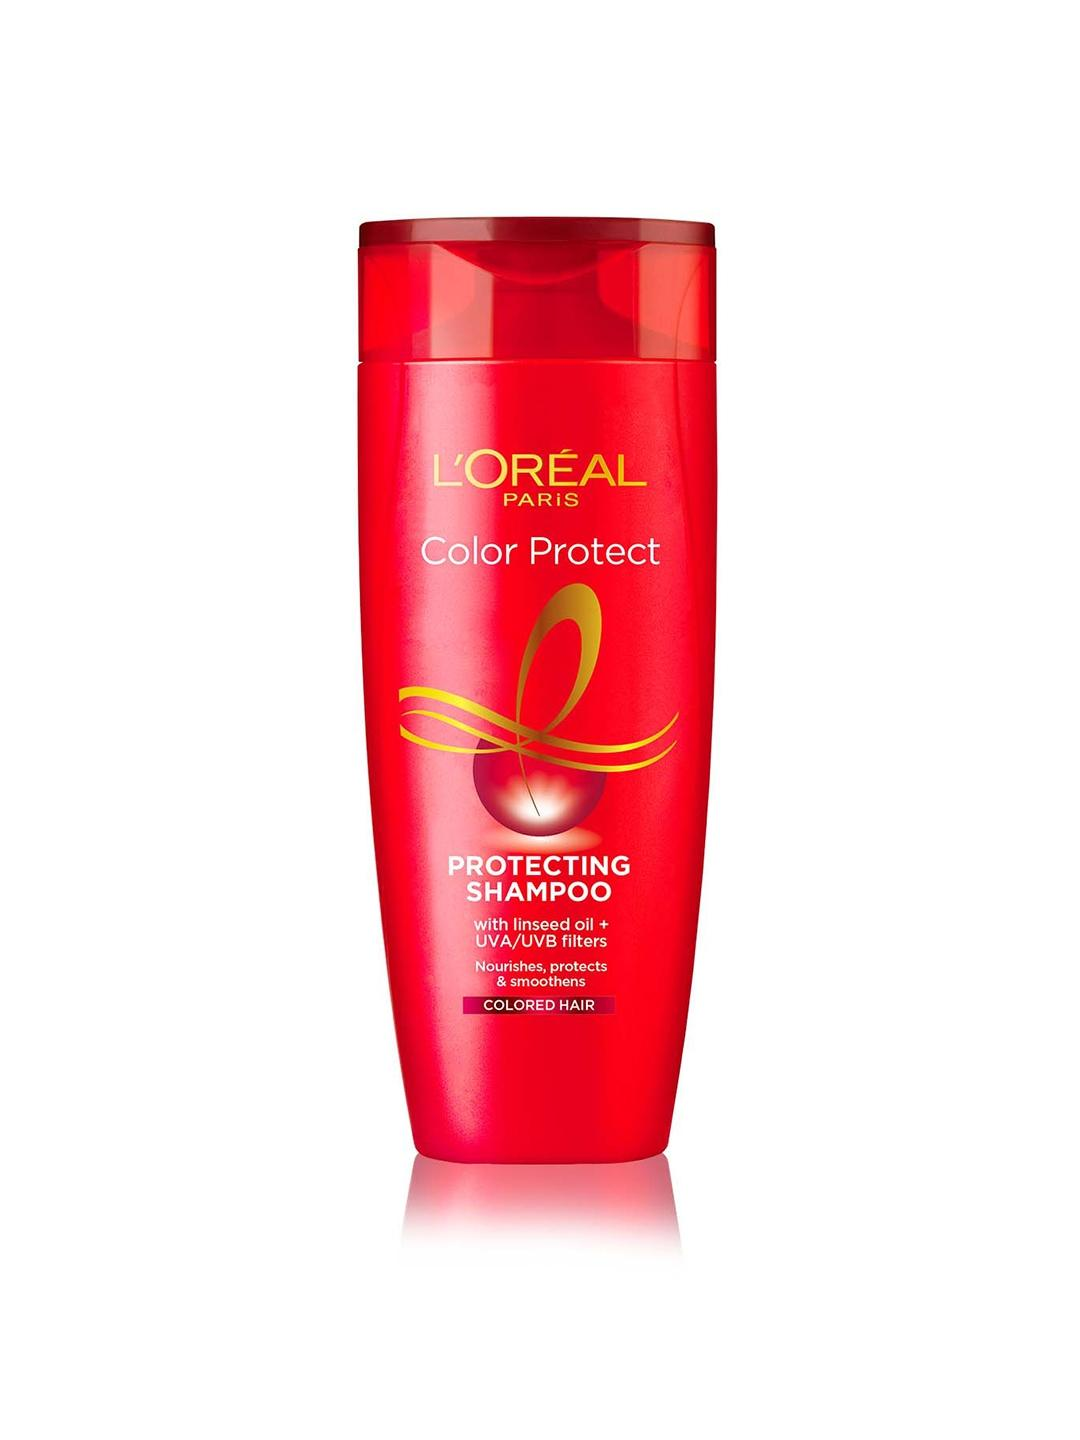Maggi: (351, 213, 718, 1158)
